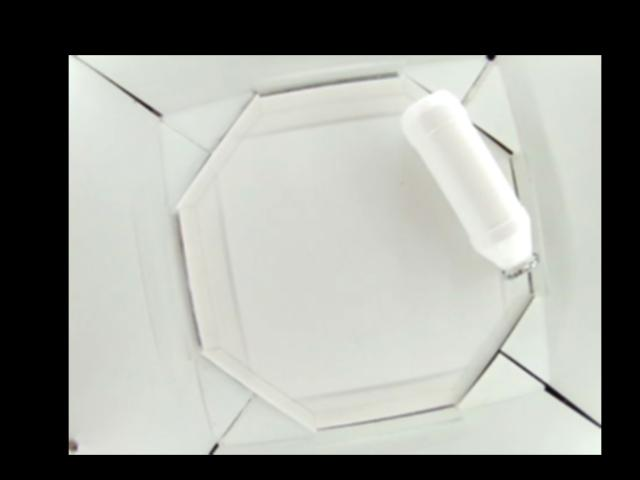Bottle: (399, 89, 538, 284)
